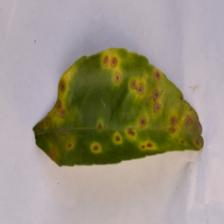canker: (112, 62, 208, 152)
